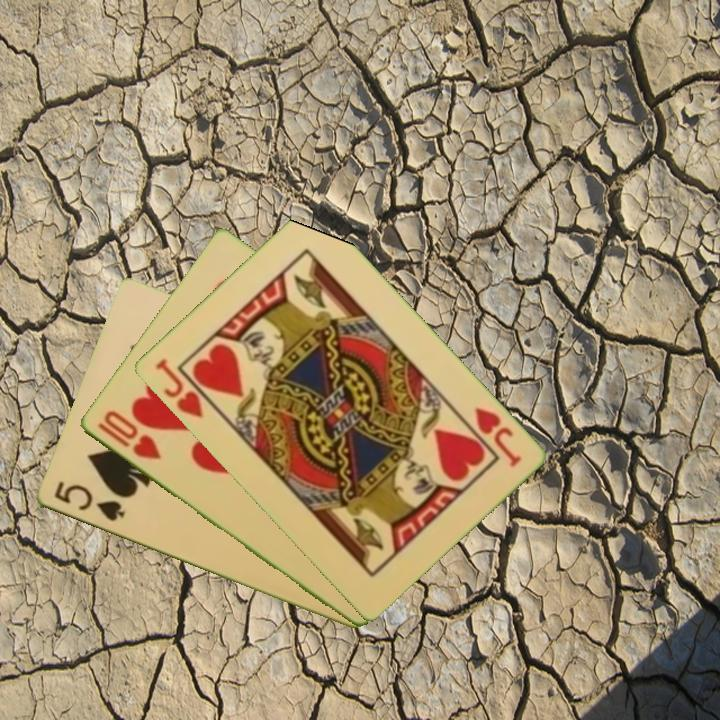10h: (93, 407, 164, 463)
5s: (50, 478, 127, 525)
Jh: (151, 355, 219, 421), (470, 404, 524, 470)
